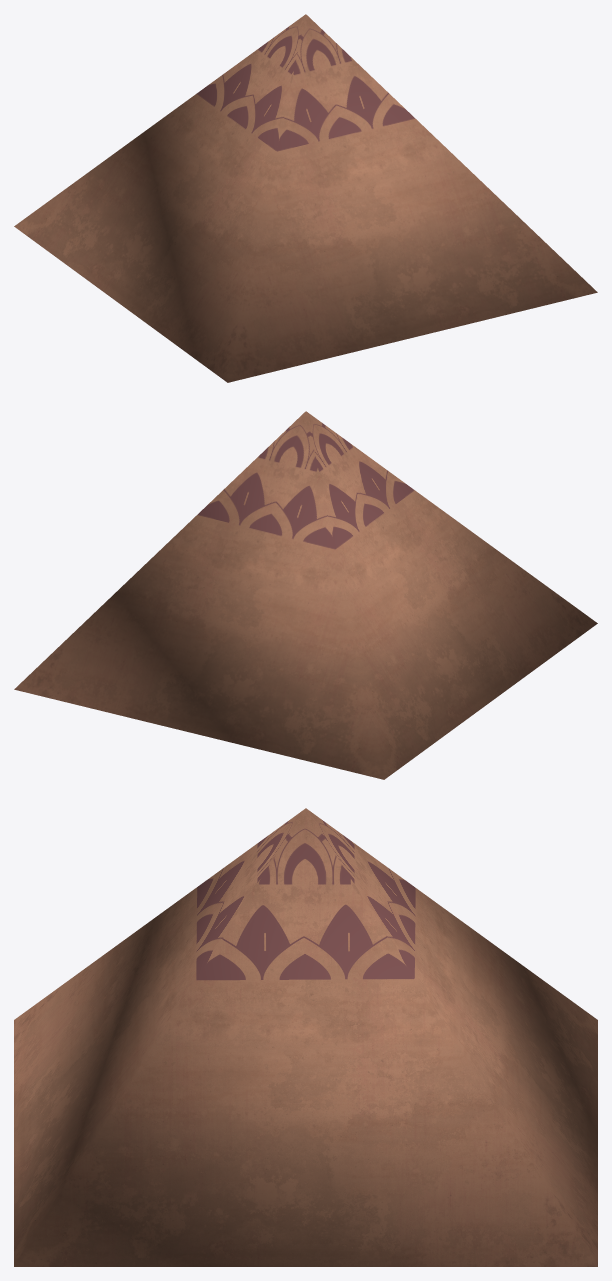
3 views of the same model, one above another, from view 1: azimuth 30°, elevation 25°; view 2: azimuth 150°, elevation 25°; view 3: azimuth 270°, elevation 25° (orthographic). The views are drawn at different scales.
Visible parts, largest first — view 1: Pyramid001; view 2: Pyramid001; view 3: Pyramid001.
Boxes of the visible parts, x1,y1,x2,y2 form: Pyramid001: (14, 14, 597, 382); Pyramid001: (14, 411, 597, 779); Pyramid001: (14, 808, 597, 1266).
Size of the model in its own units: 25561 by 25561 by 16194.
